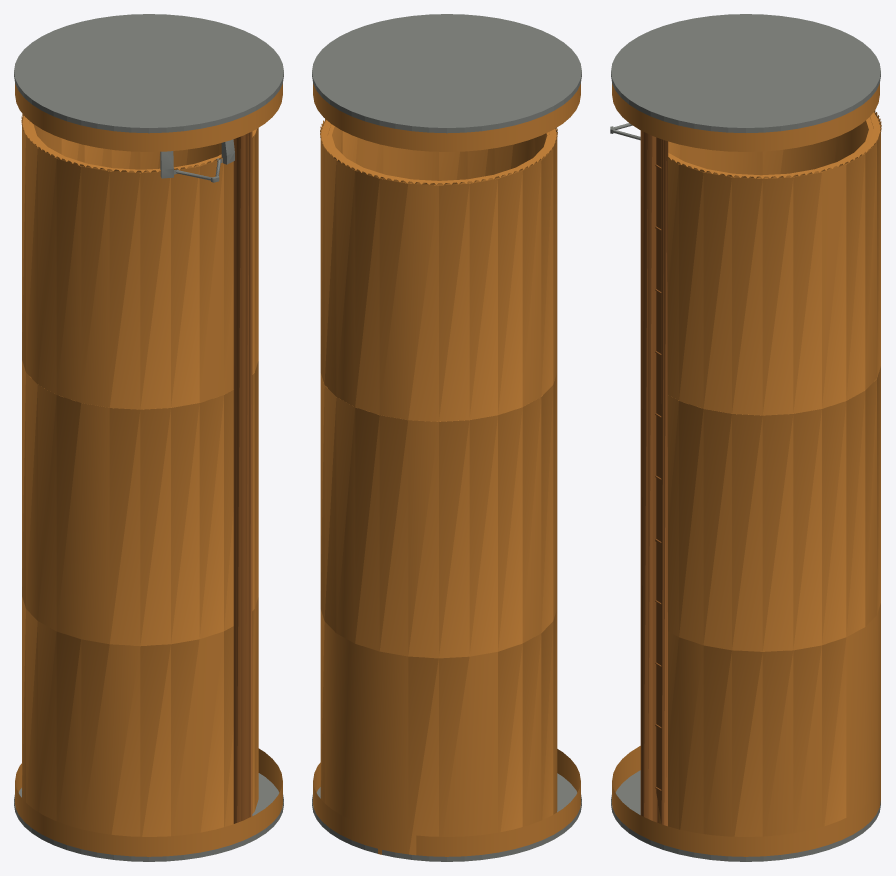
The model's file is shuttle-pl400-tank.glb.
3 views of the same model, side by side, from view 1: azimuth 30°, elevation 25°; view 2: azimuth 150°, elevation 25°; view 3: azimuth 270°, elevation 25° (orthographic).
Visible parts, largest first — view 1: shuttle-pl400-tank; view 2: shuttle-pl400-tank; view 3: shuttle-pl400-tank.
Boxes of the visible parts, x1,y1,x2,y2 form: shuttle-pl400-tank: (14,14,283,861); shuttle-pl400-tank: (312,14,581,861); shuttle-pl400-tank: (610,14,881,861).
Size of the model in its own units: 1.2 by 3.6 by 1.21.
